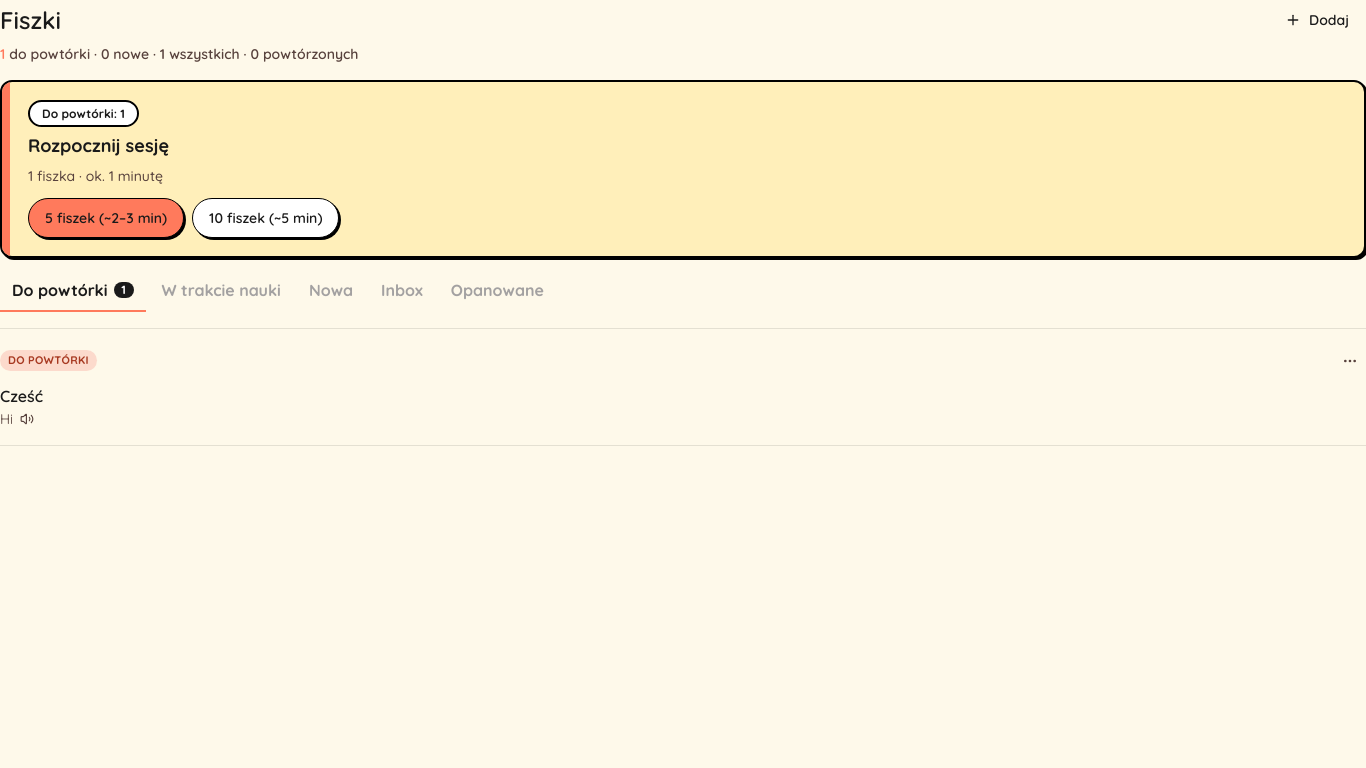
Test: FlashcardsView › shows edit error when update fails
This screenshot has width=1366, height=768.
Click the button named "Opcje karty".
click(1350, 360)  # box [1334,344,1365,376]
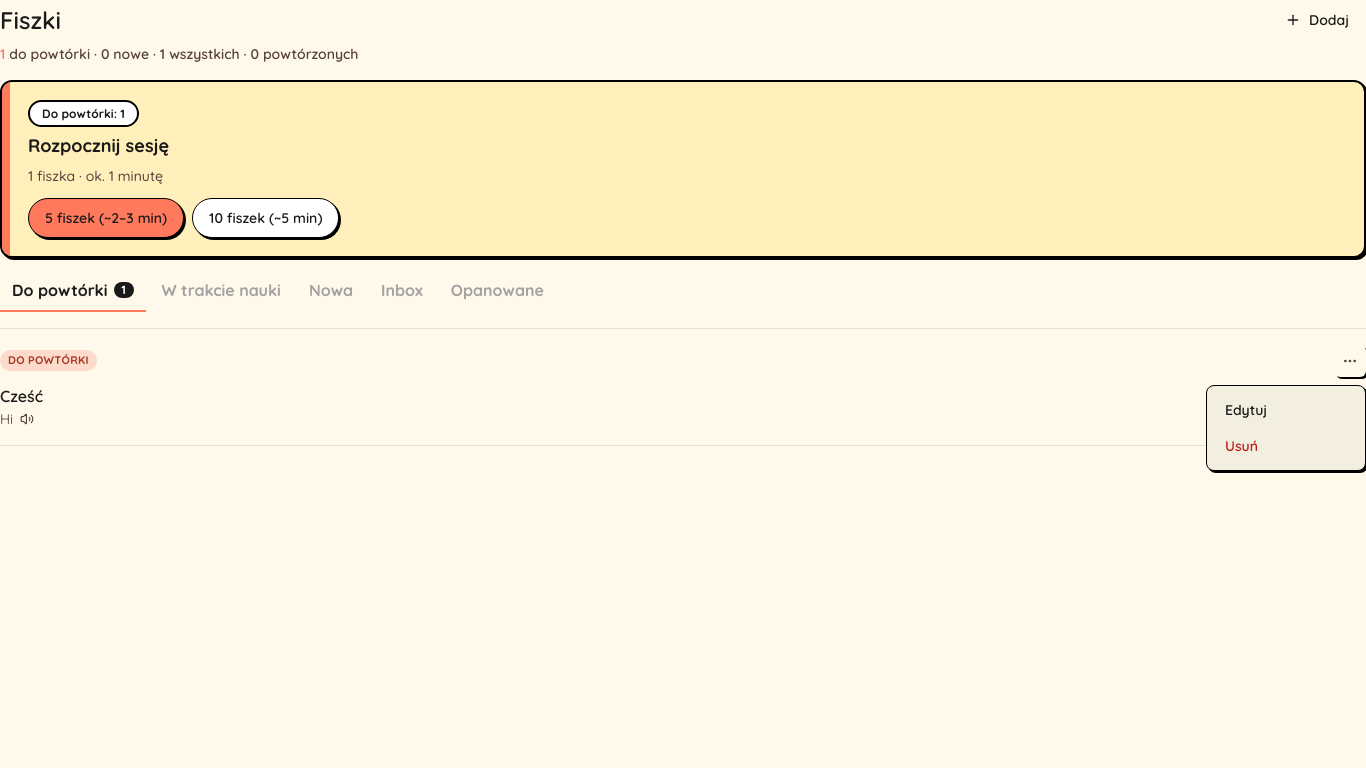
Click the menu item "Edytuj".
click(1246, 410)  # box [1225,401,1267,419]
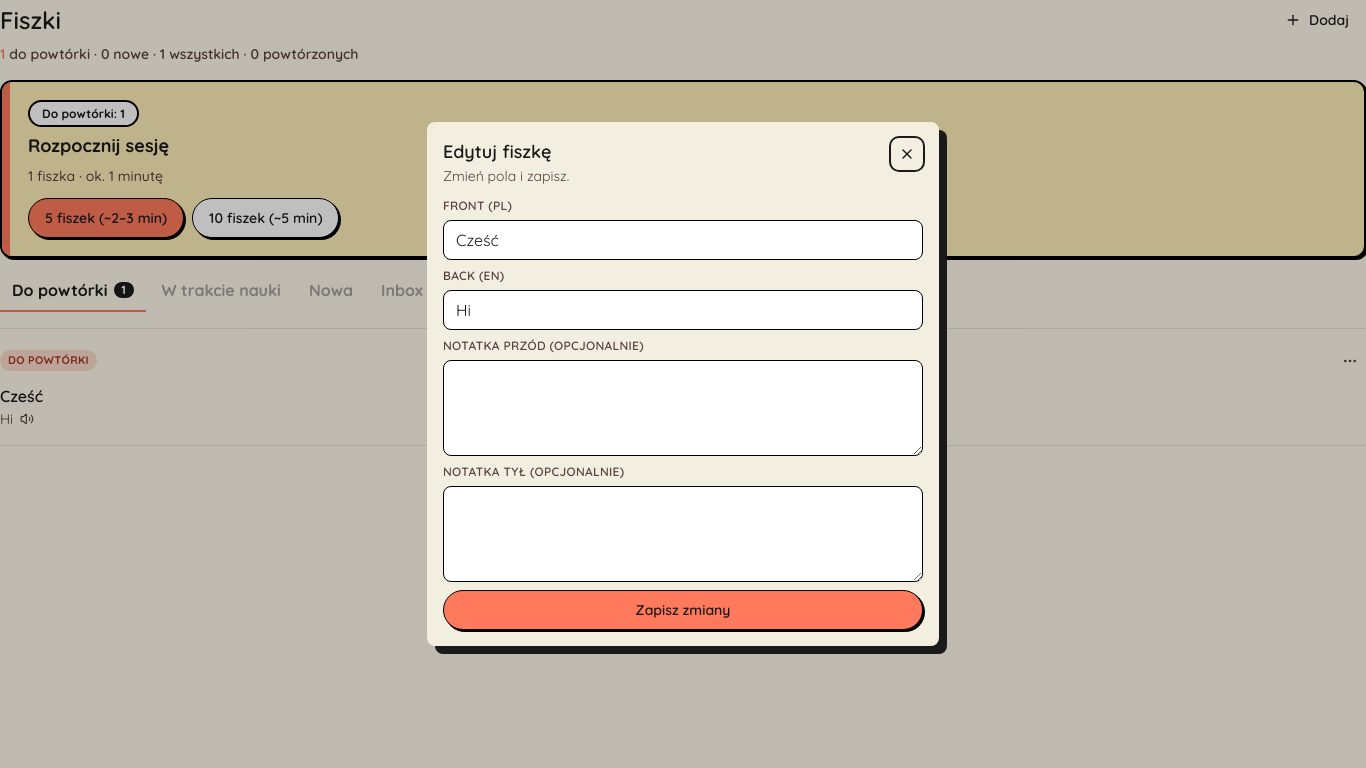
Click the button "Zapisz zmiany".
click(683, 610)  # box [443,590,923,630]
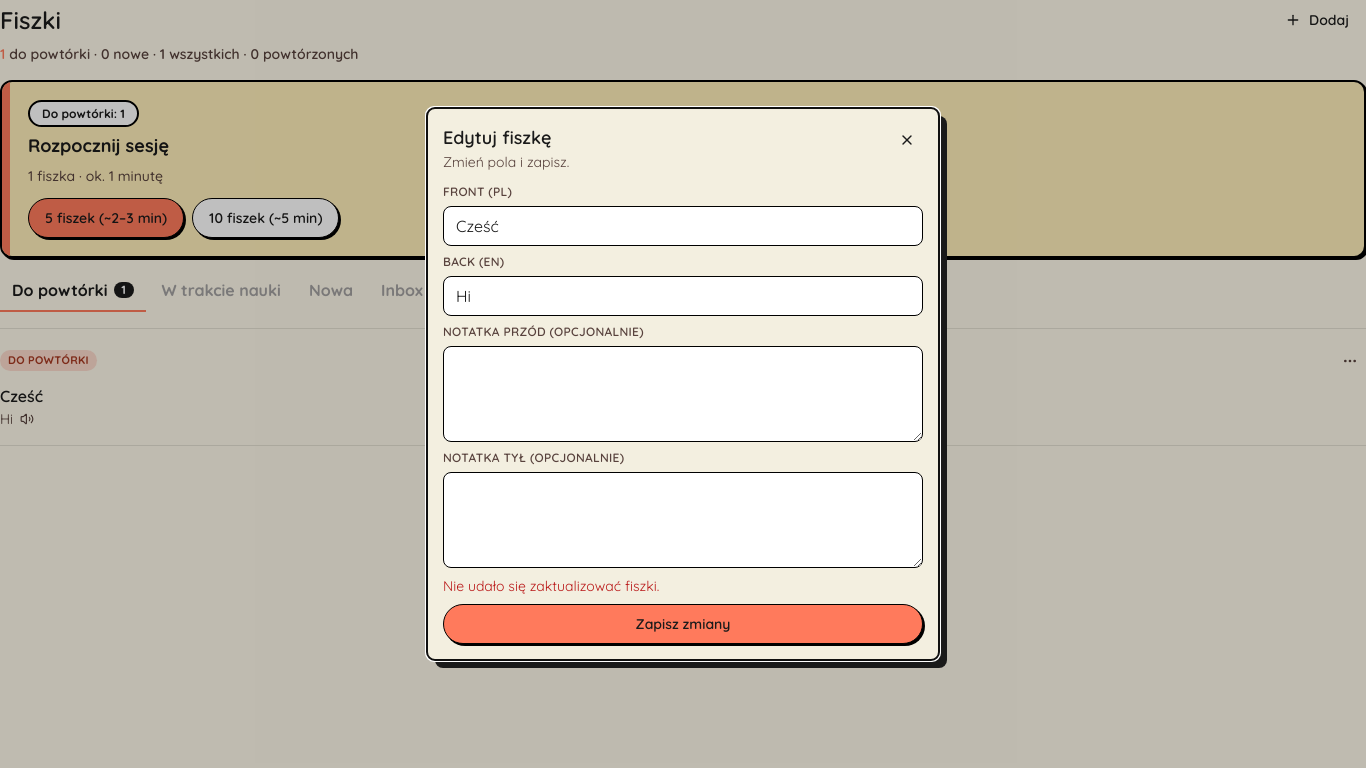
Check: the text "Nie udało się zaktualizować fiszki." is shown, box [443,577,659,595]
